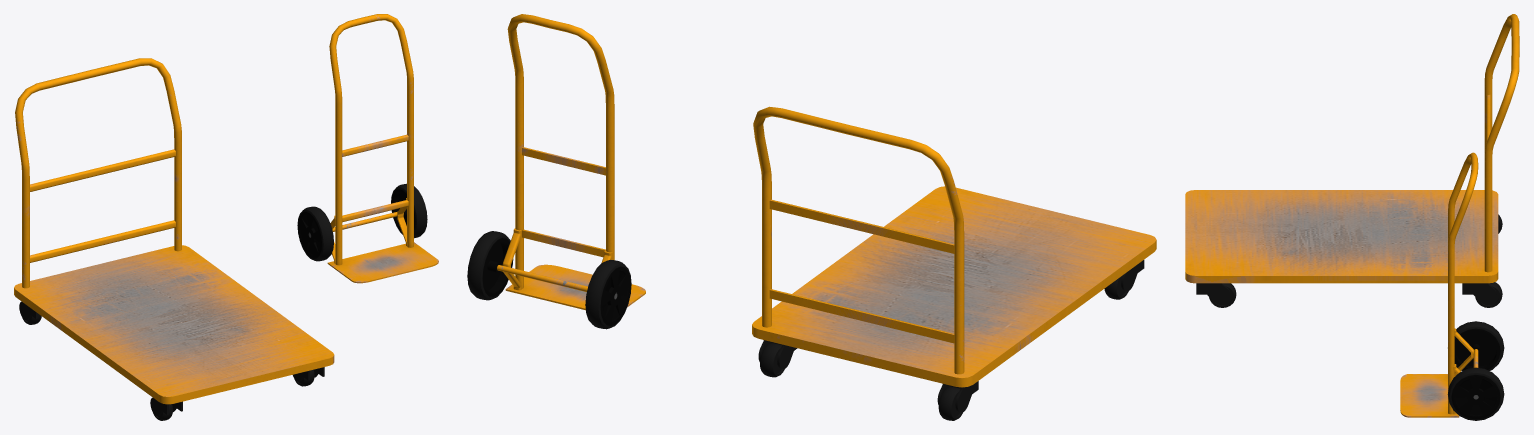
File: Telejka.FBX
The picture shows the model from 3 angles, left to right: view 1: azimuth 30°, elevation 25°; view 2: azimuth 150°, elevation 25°; view 3: azimuth 270°, elevation 25°; orthographic projection. The views are drawn at different scales.
Visible parts, largest first — view 1: Platform_Truck, Dolly; view 2: Platform_Truck, Dolly; view 3: Platform_Truck, Dolly.
Part boxes in pixels (bbox=[...]): Platform_Truck: bbox=[14, 58, 334, 420]; Dolly: bbox=[297, 14, 438, 283]; Platform_Truck: bbox=[752, 106, 1156, 420]; Dolly: bbox=[467, 14, 645, 329]; Platform_Truck: bbox=[1185, 14, 1519, 307]; Dolly: bbox=[1400, 152, 1504, 420].
Bounding box in the file's own units: 2056 × 1490 × 1156.
